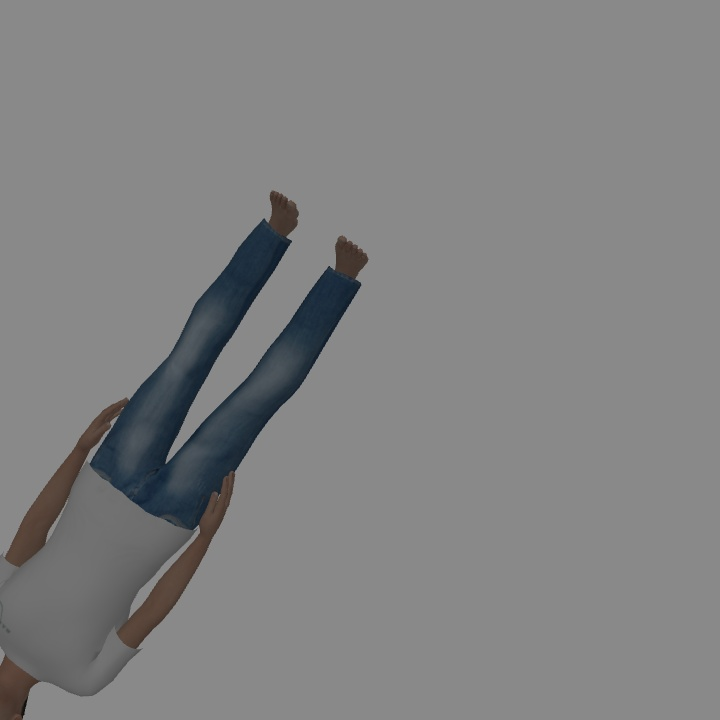victim: (2, 191, 367, 720)
